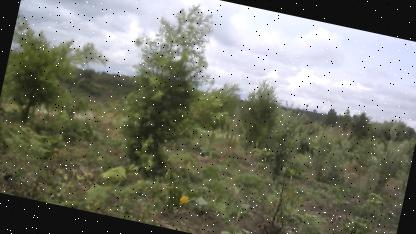tree: (106, 0, 220, 182)
